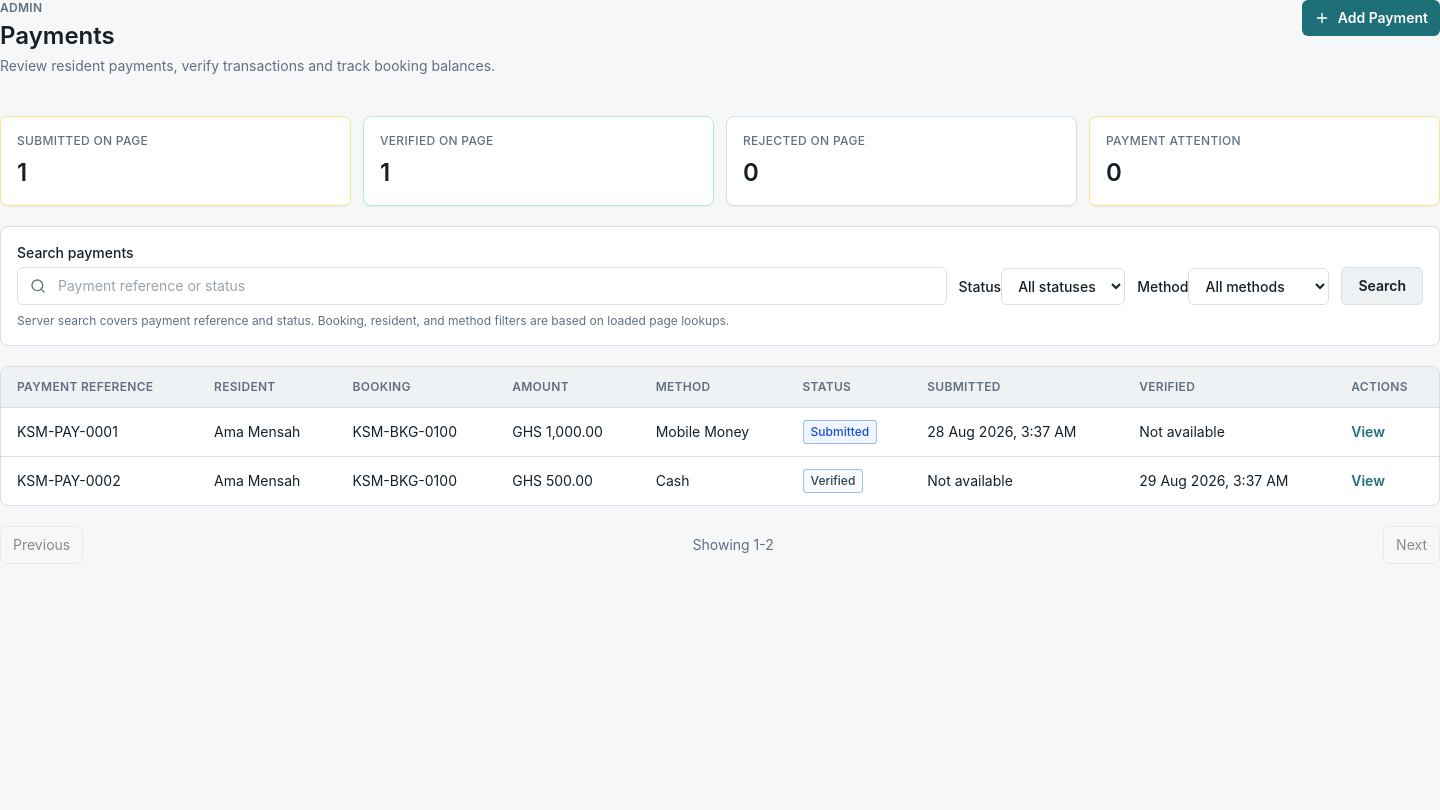
PaymentsPage › surfaces verification failure
The image size is (1440, 810).
Expected: the text "KSM-PAY-0001" is shown, left=1, top=408, right=198, bottom=456
Click the button "View" in the row of "KSM-PAY-0001" at (1368, 432), box left=1351, top=422, right=1385, bottom=442
(page scrolled)
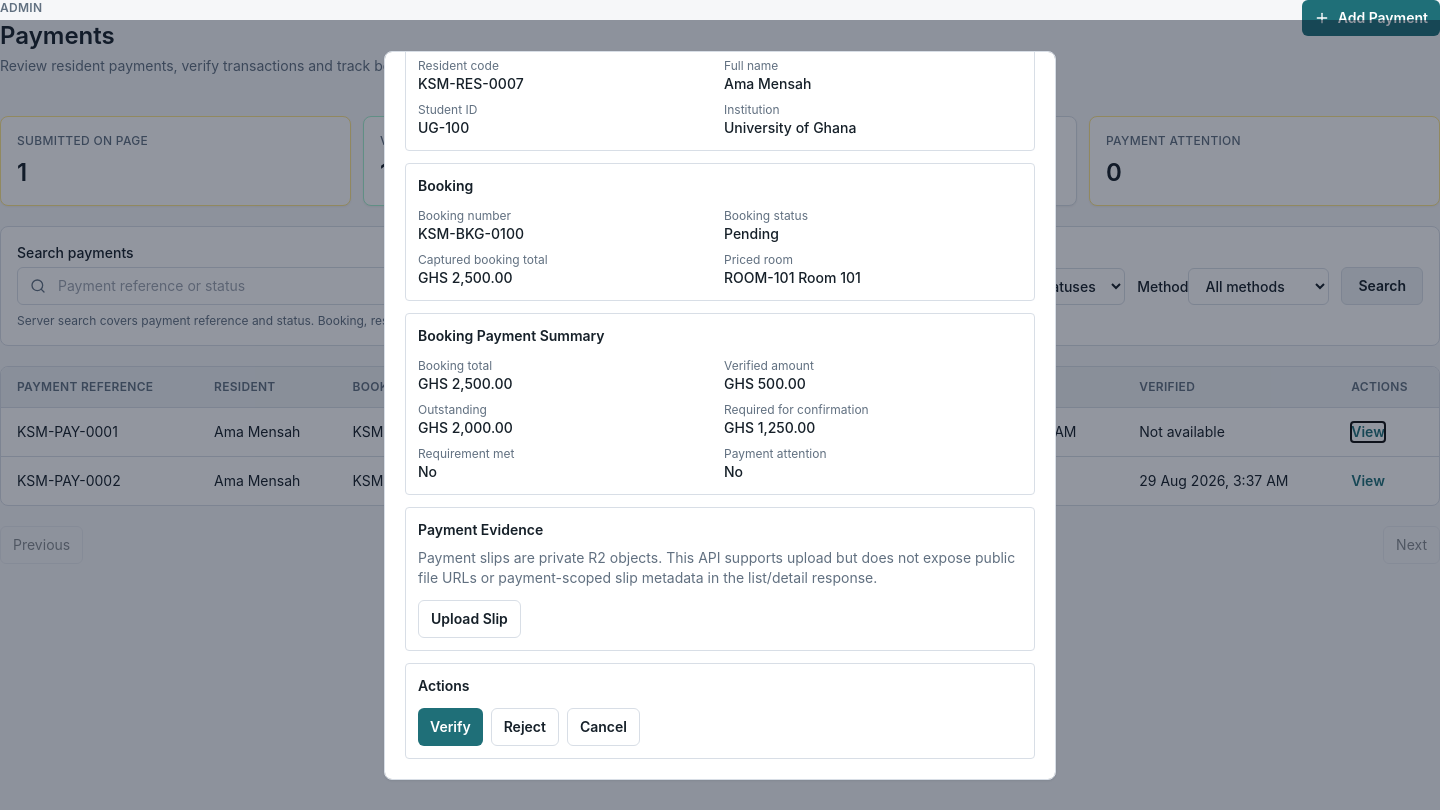
Click the button "Verify" at (450, 726), box left=418, top=708, right=483, bottom=746
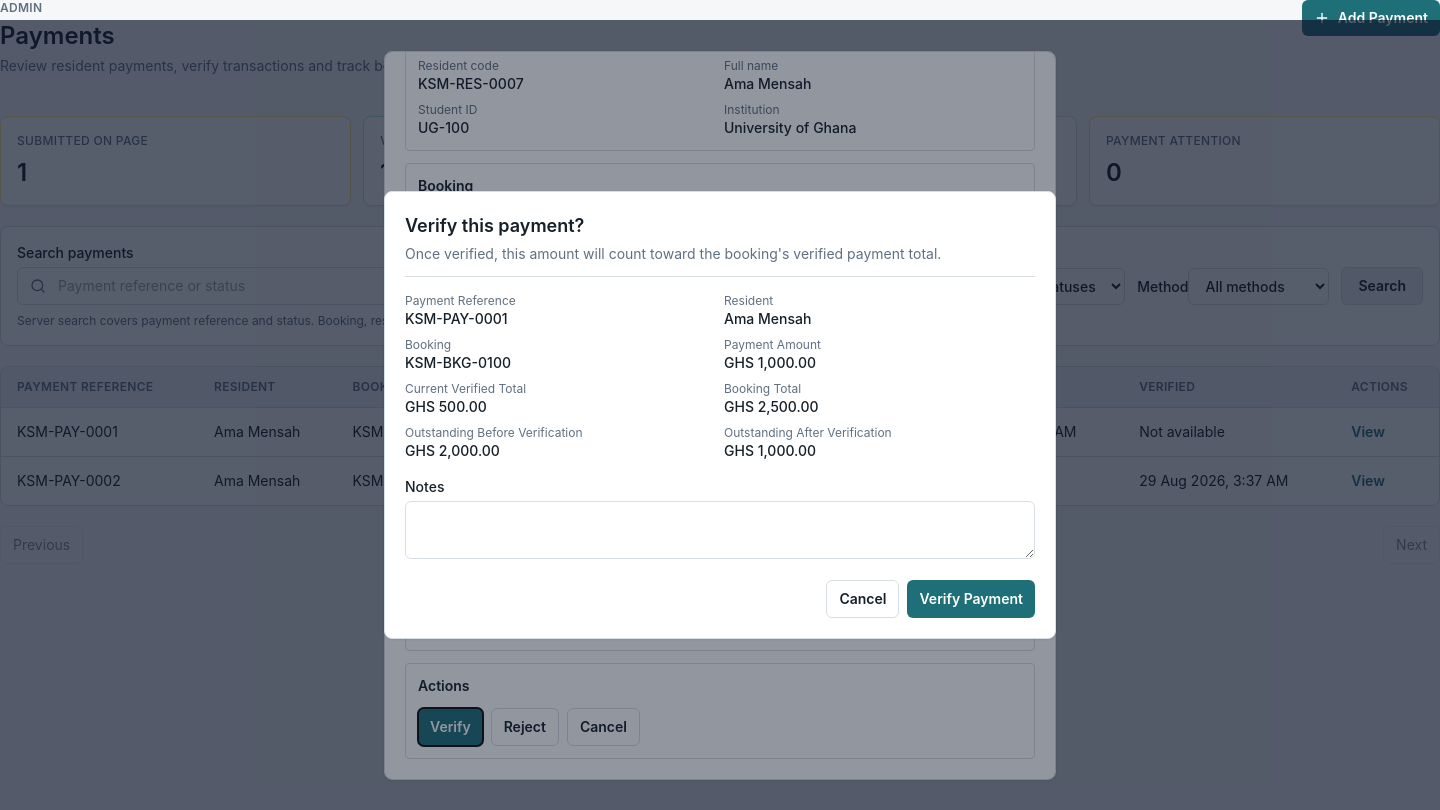
Click the button "Verify Payment" at (971, 599), box left=908, top=580, right=1035, bottom=618
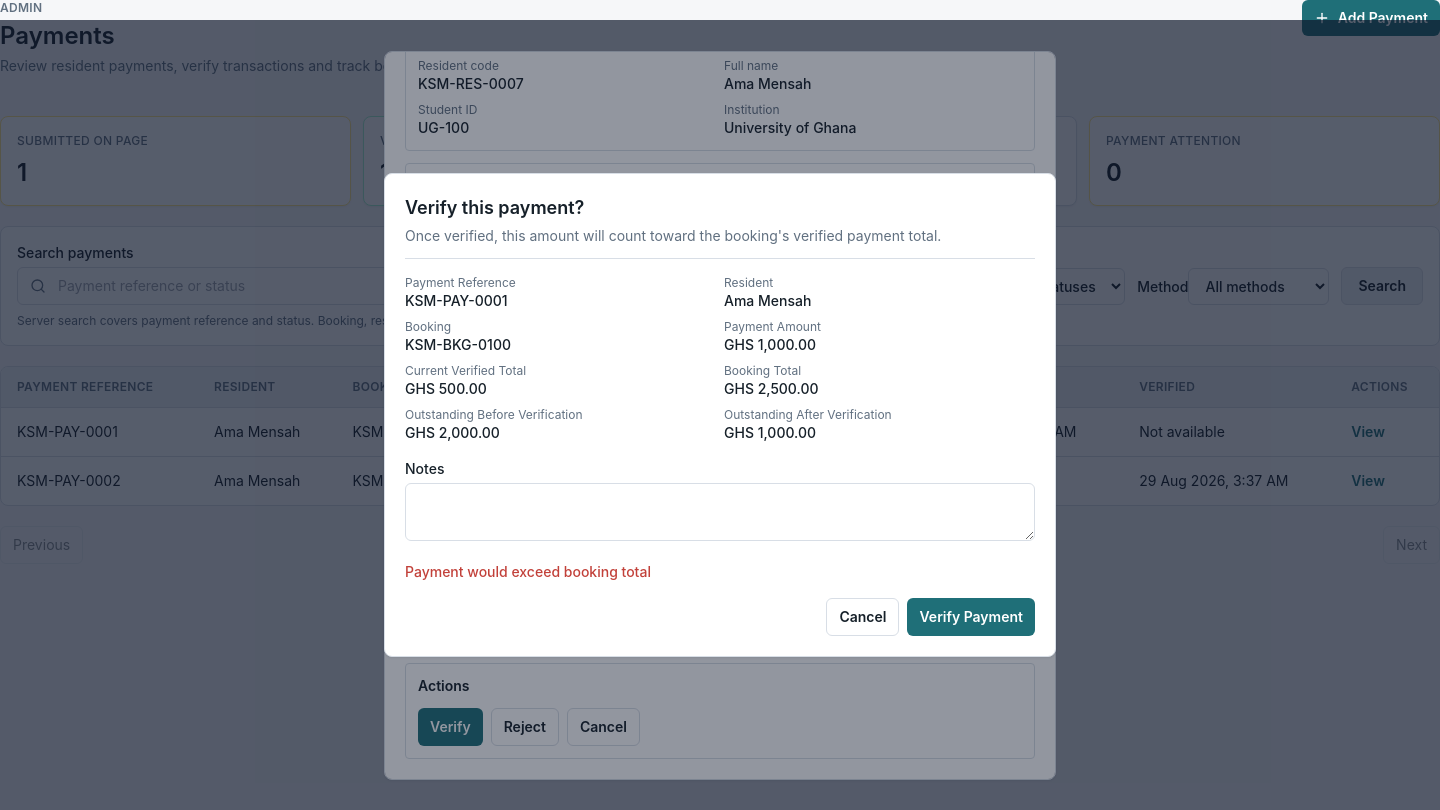
Expected: the message reads "Payment would exceed booking total", left=405, top=563, right=651, bottom=580
